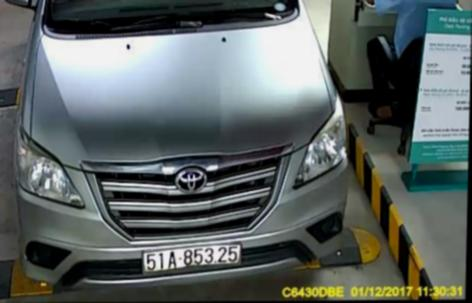License_Plate: (141, 241, 241, 267)
